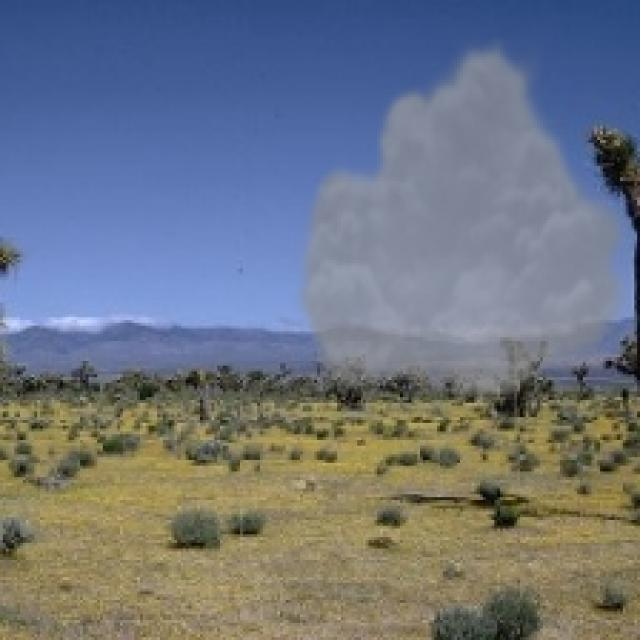smoke: (292, 34, 637, 406)
